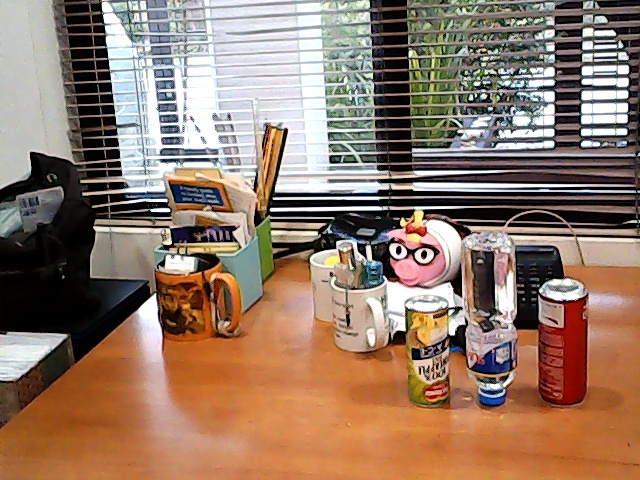Cola: (530, 267, 597, 413)
Pine Juice: (400, 285, 457, 415)
Summit Water: (457, 222, 531, 411)
